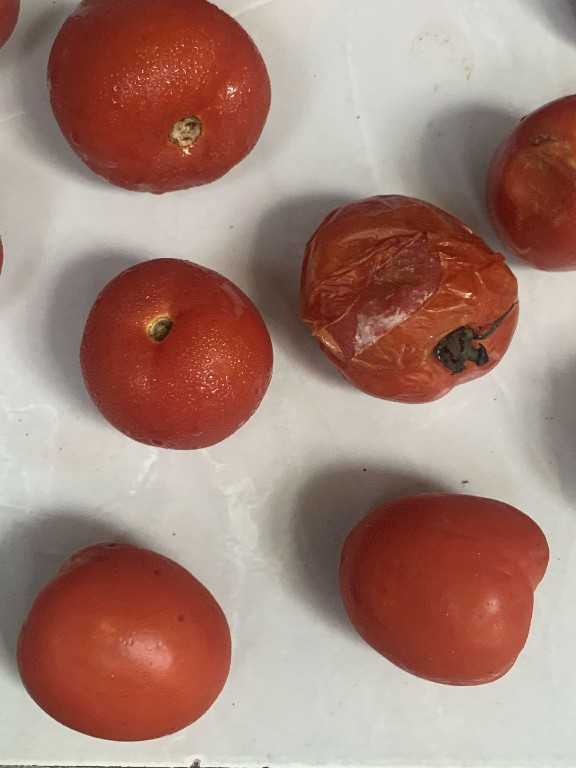NG: (292, 186, 527, 413), (484, 75, 575, 286)
OK: (14, 536, 250, 749), (330, 483, 561, 690), (33, 3, 277, 192), (76, 250, 274, 462)
